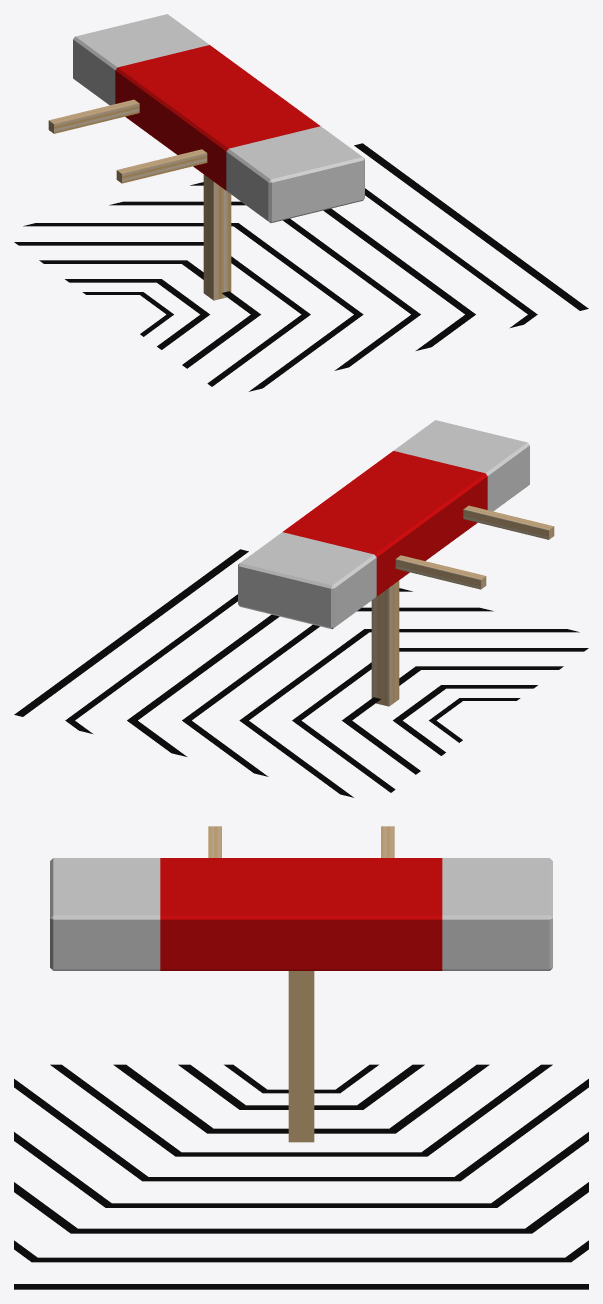
The model's file is MagnetGood.obj.
The picture shows the model from 3 angles, top to bottom: view 1: azimuth 30°, elevation 25°; view 2: azimuth 150°, elevation 25°; view 3: azimuth 270°, elevation 25°; orthographic projection. The views are drawn at different scales.
Parts seen in each view (by area): view 1: Cube, Cylinder, Cube.001, Cube.002, Cube.003; view 2: Cube, Cylinder, Cube.001, Cube.002, Cube.003; view 3: Cube, Cylinder, Cube.001.
Part boxes in pixels (x1=…): Cube: x1=73, y1=14, x2=364, y2=223; Cylinder: x1=14, y1=143, x2=588, y2=391; Cube.001: x1=203, y1=174, x2=231, y2=300; Cube.002: x1=48, y1=99, x2=139, y2=133; Cube.003: x1=116, y1=149, x2=207, y2=183; Cube: x1=238, y1=420, x2=529, y2=629; Cylinder: x1=14, y1=549, x2=588, y2=797; Cube.001: x1=371, y1=580, x2=399, y2=706; Cube.002: x1=395, y1=555, x2=486, y2=589; Cube.003: x1=463, y1=505, x2=554, y2=539; Cube: x1=50, y1=858, x2=552, y2=970; Cylinder: x1=14, y1=1064, x2=588, y2=1289; Cube.001: x1=288, y1=971, x2=314, y2=1142.
Bounding box in the file's own units: 2.99 × 1.45 × 3.
Materials: 4 (1 with a texture image).
